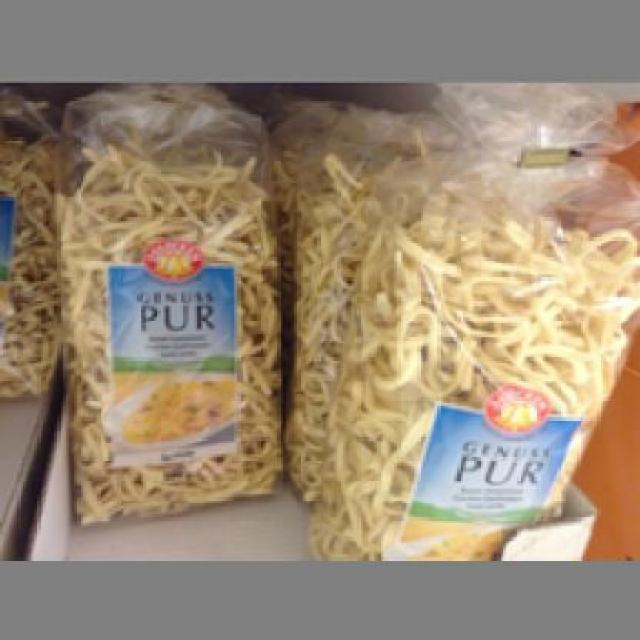Pasta: (306, 157, 634, 557), (50, 89, 284, 520)
